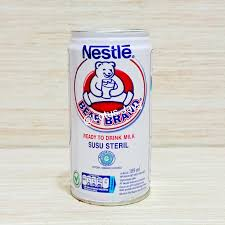Bear Brand Susu Steril (189ml): (57, 24, 159, 208)
